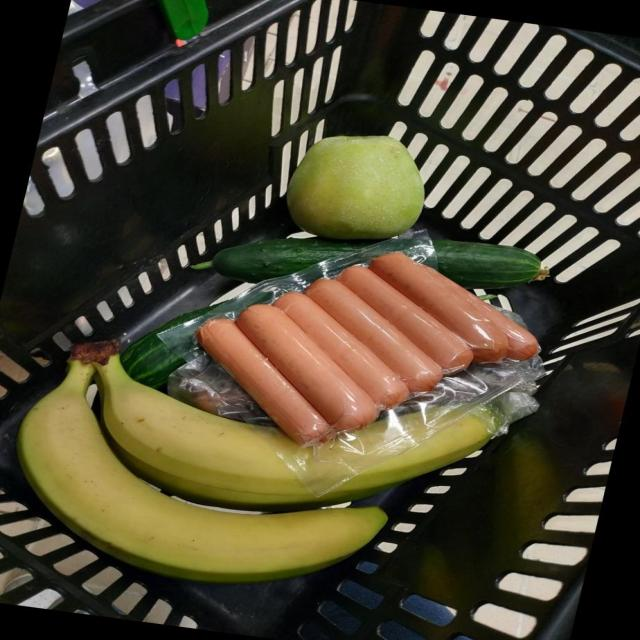Apple: (286, 135, 424, 238)
Banana: (17, 359, 386, 583), (91, 353, 490, 510)
Cucumber: (120, 304, 215, 388), (211, 236, 373, 282), (432, 239, 547, 289)
Sausages: (159, 230, 540, 495)
